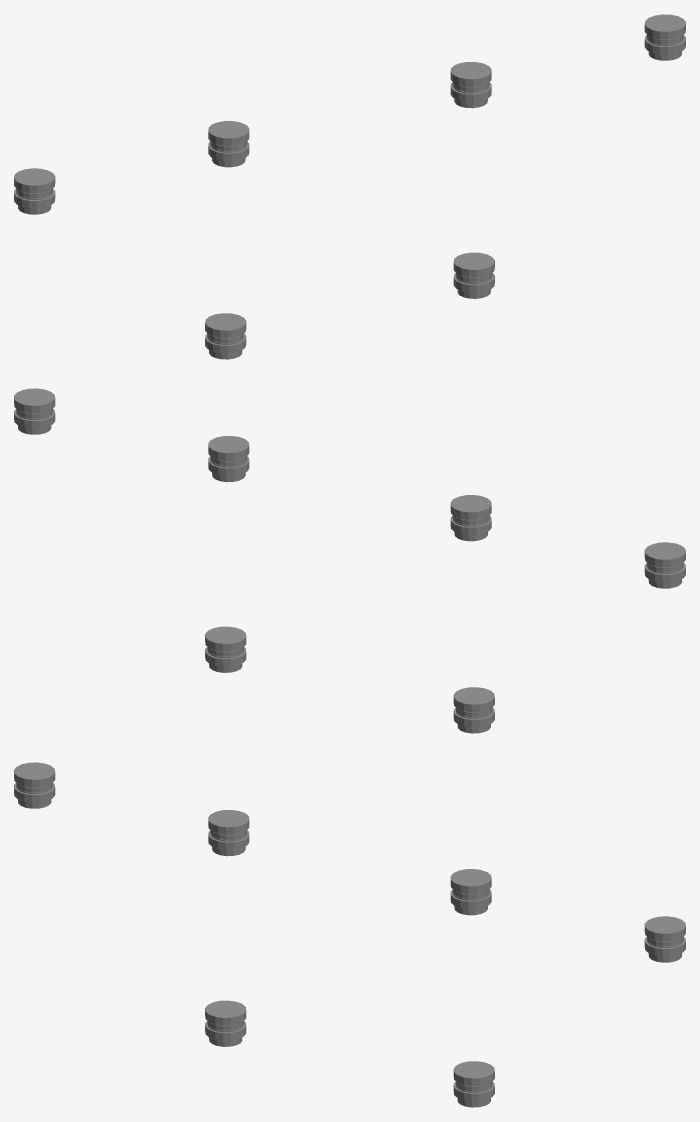
File: eletric_(pole).001_metal_(matte)_0_lev3.glb
The picture shows the model from 3 angles, top to bottom: view 1: azimuth 30°, elevation 25°; view 2: azimuth 150°, elevation 25°; view 3: azimuth 330°, elevation 25°; orthographic projection.
Visible parts, largest first — view 1: eletric_(pole).001_metal_(matte)_0_lev3; view 2: eletric_(pole).001_metal_(matte)_0_lev3; view 3: eletric_(pole).001_metal_(matte)_0_lev3.
Boxes of the visible parts, bbox=[...] form: eletric_(pole).001_metal_(matte)_0_lev3: bbox=[14, 14, 685, 359]; eletric_(pole).001_metal_(matte)_0_lev3: bbox=[14, 388, 685, 733]; eletric_(pole).001_metal_(matte)_0_lev3: bbox=[14, 762, 685, 1107].
Size of the model in its own units: 1.51 by 0.4815 by 0.0818.
Materials: 1 (1 with a texture image).
